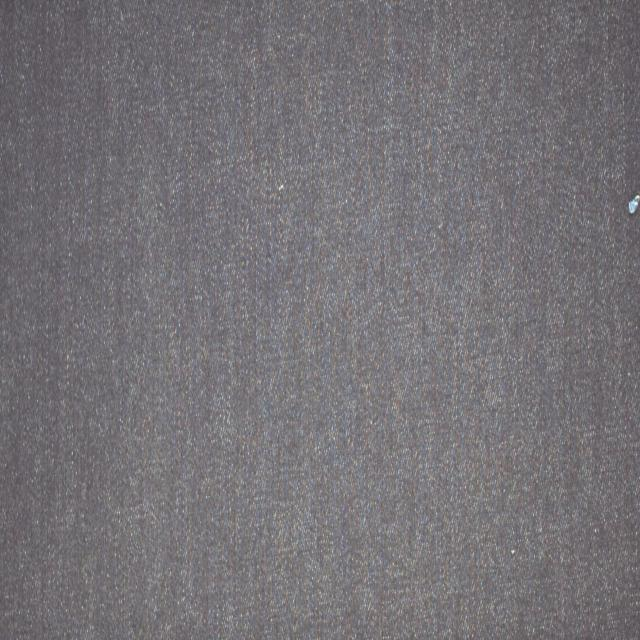Knot: (630, 194, 640, 214)
